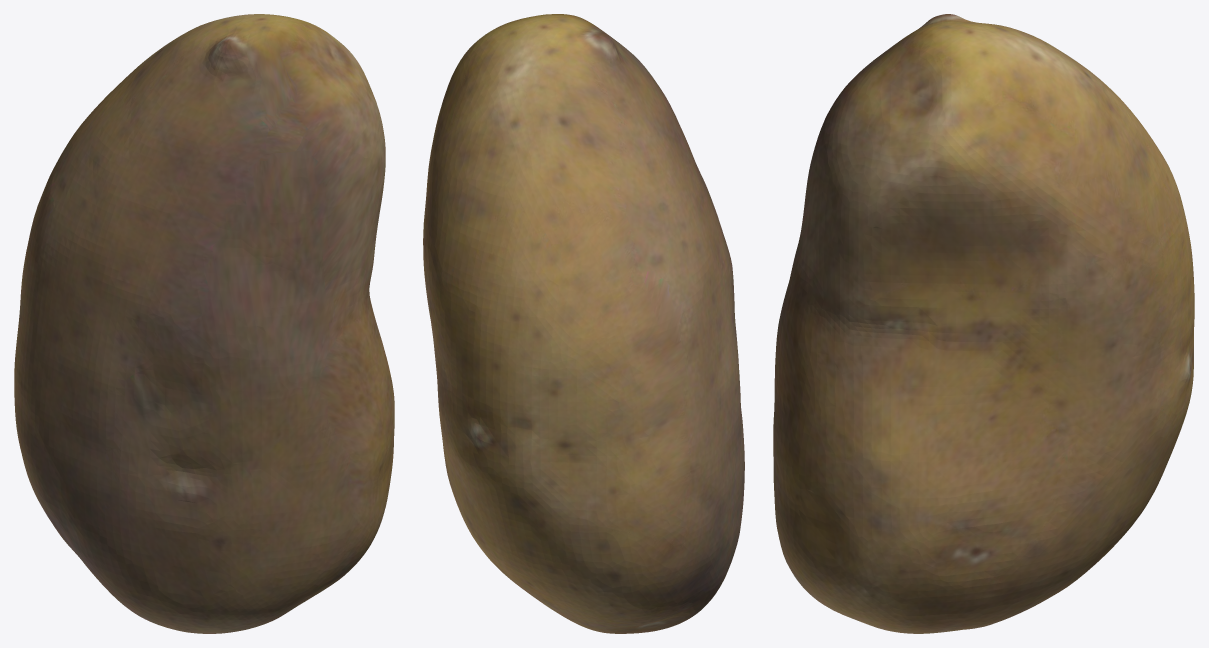
The model's file is potatoPaperScan1.obj.
3 renders of one model, left to right at view 1: azimuth 30°, elevation 25°; view 2: azimuth 150°, elevation 25°; view 3: azimuth 270°, elevation 25°, orthographic. The views are drawn at different scales.
Parts seen in each view (by area): view 1: potatoPaperScan1; view 2: potatoPaperScan1; view 3: potatoPaperScan1.
Boxes of the visible parts, <box> form: potatoPaperScan1: <box>14,14,394,633</box>; potatoPaperScan1: <box>423,14,744,633</box>; potatoPaperScan1: <box>773,14,1194,633</box>.
Size of the model in its own units: 55.25 by 105 by 63.53.
